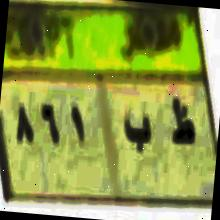1: (70, 99, 88, 151)
6: (36, 100, 64, 152)
8: (12, 101, 36, 154)
Thaa: (165, 93, 199, 154)
baa: (121, 103, 154, 157)
